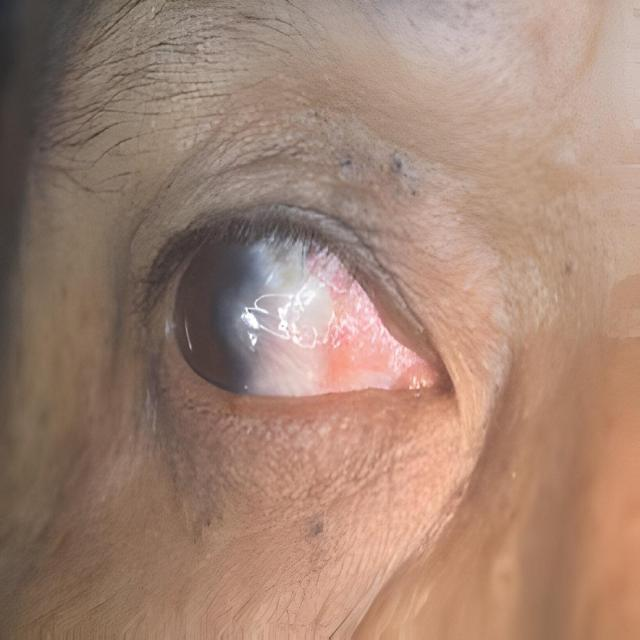Pterygium: (237, 254, 405, 396)
